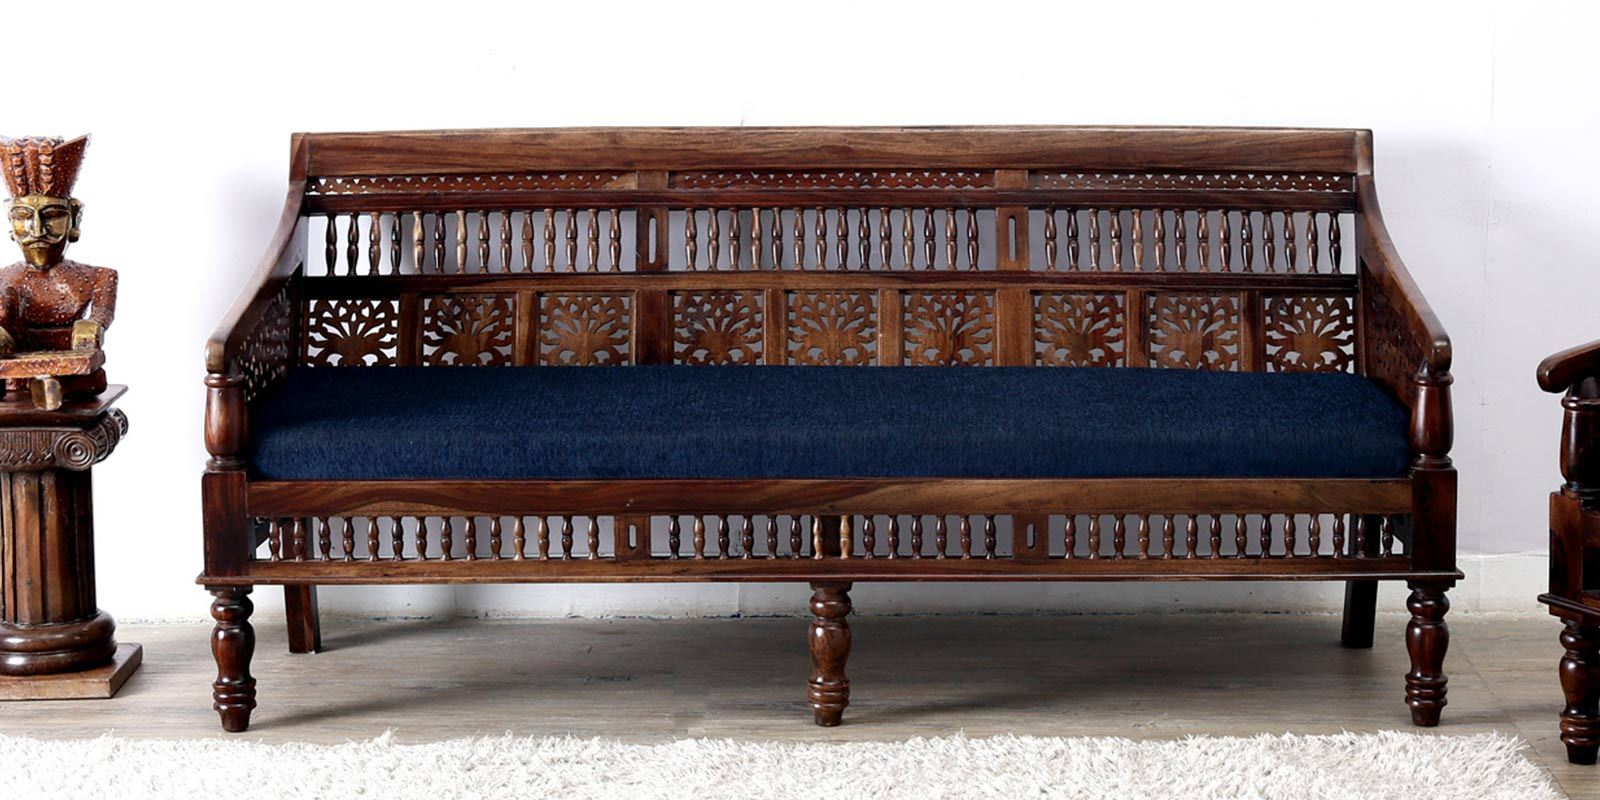Maurya Handcrafted Three Seater Sofa in Provincial Teak Finish by Mudramark: (193, 123, 1462, 734)
